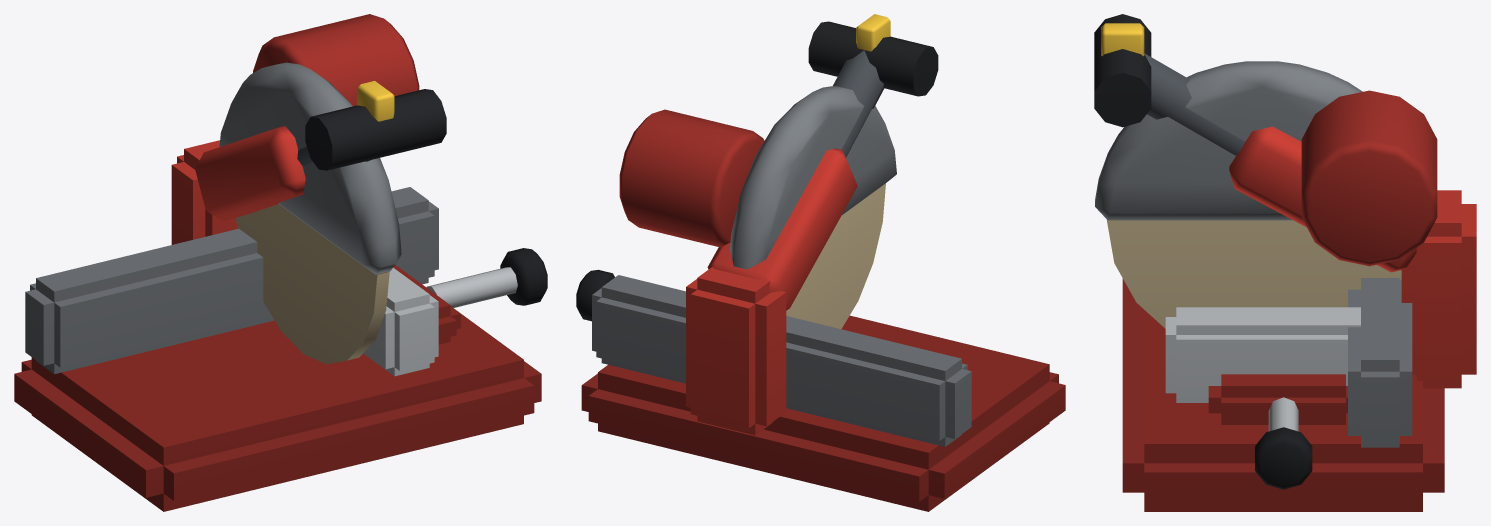
Rendered from SM_ChopSaw_01.glb.
3 views of the same model, side by side, from view 1: azimuth 30°, elevation 25°; view 2: azimuth 150°, elevation 25°; view 3: azimuth 270°, elevation 25° (orthographic). The views are drawn at different scales.
Visible parts, largest first — view 1: SM_ChopSaw_01; view 2: SM_ChopSaw_01; view 3: SM_ChopSaw_01.
Part boxes in pixels (bbox=[...]): SM_ChopSaw_01: bbox=[14, 14, 547, 511]; SM_ChopSaw_01: bbox=[576, 14, 1065, 511]; SM_ChopSaw_01: bbox=[1094, 14, 1476, 511].
Bounding box in the file's own units: 0.52 × 0.415 × 0.3566.
1 material, 1 textured.
